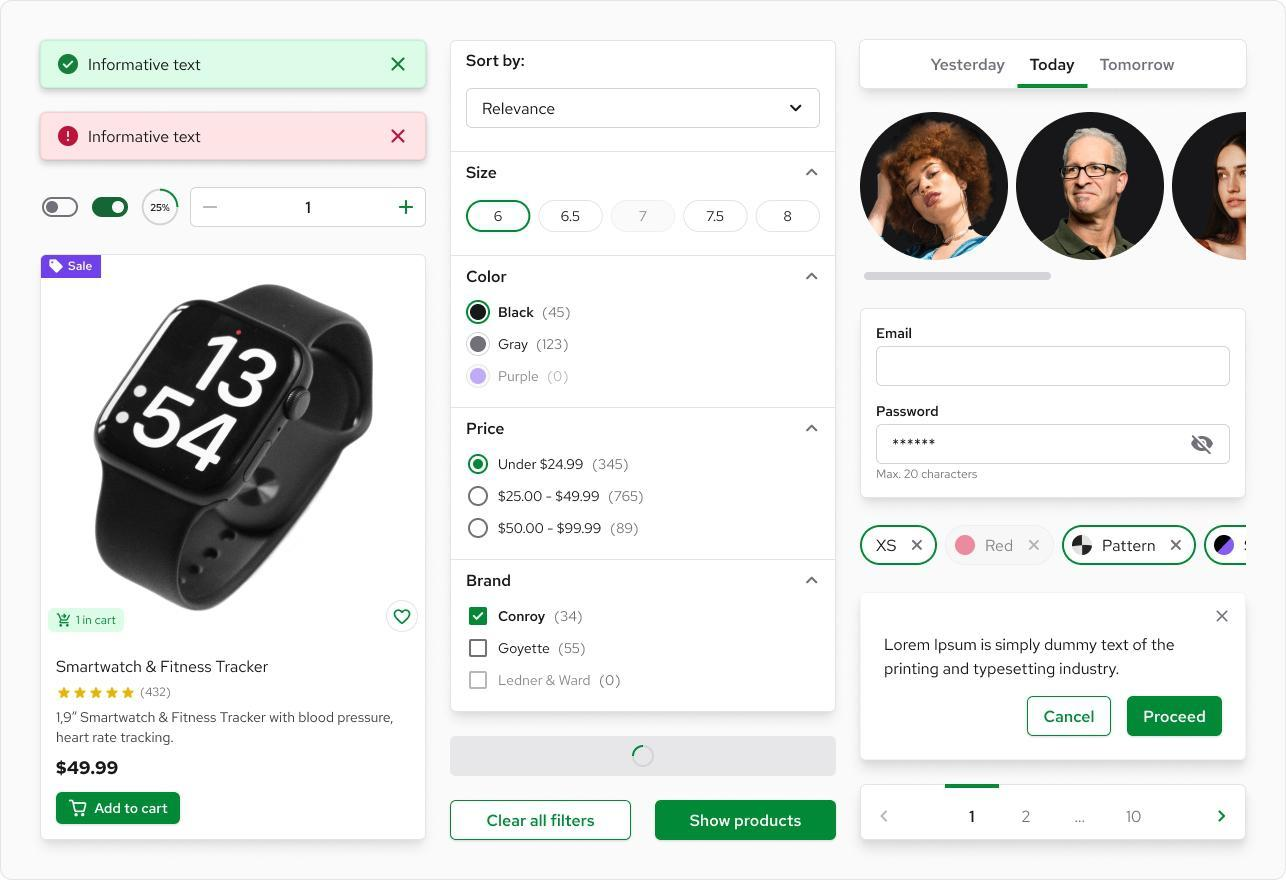button: (655, 800, 837, 843), (451, 800, 633, 842), (56, 792, 181, 825), (1128, 696, 1224, 738), (1027, 696, 1112, 738), (612, 200, 676, 233), (467, 201, 532, 233), (539, 201, 603, 233), (685, 201, 749, 233), (758, 201, 821, 232)
checkbox: (470, 672, 489, 690), (470, 608, 488, 626), (470, 640, 488, 658)
dropdown: (467, 90, 821, 130)
icon: (387, 600, 419, 634), (467, 54, 526, 71), (391, 129, 407, 146), (399, 199, 415, 215), (392, 58, 407, 72), (1217, 610, 1230, 623), (1218, 810, 1228, 825), (880, 810, 890, 823), (202, 204, 219, 211)
input: (877, 347, 1231, 387), (877, 425, 1231, 465)
label: (884, 638, 1177, 680), (56, 658, 271, 675), (498, 489, 645, 506), (497, 522, 642, 538), (499, 457, 631, 474), (87, 57, 203, 75), (498, 674, 622, 690), (88, 129, 203, 145), (499, 642, 589, 659), (497, 610, 585, 627), (930, 57, 1007, 76), (1099, 57, 1177, 74), (56, 759, 121, 778), (498, 370, 570, 386), (499, 338, 570, 354), (876, 404, 942, 421), (499, 307, 572, 321), (1030, 57, 1077, 75), (874, 325, 915, 342)
radio: (466, 301, 491, 325), (467, 333, 491, 357), (467, 365, 492, 388), (469, 454, 489, 476), (469, 487, 490, 507), (469, 519, 489, 539)
switch: (43, 198, 79, 218), (93, 198, 129, 218)
